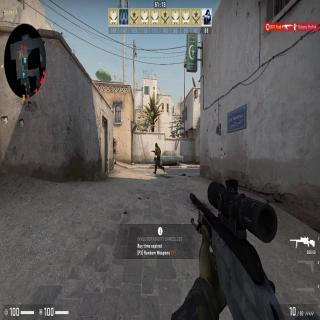T-Body: (152, 143, 164, 174)
T-Head: (155, 143, 158, 148)
